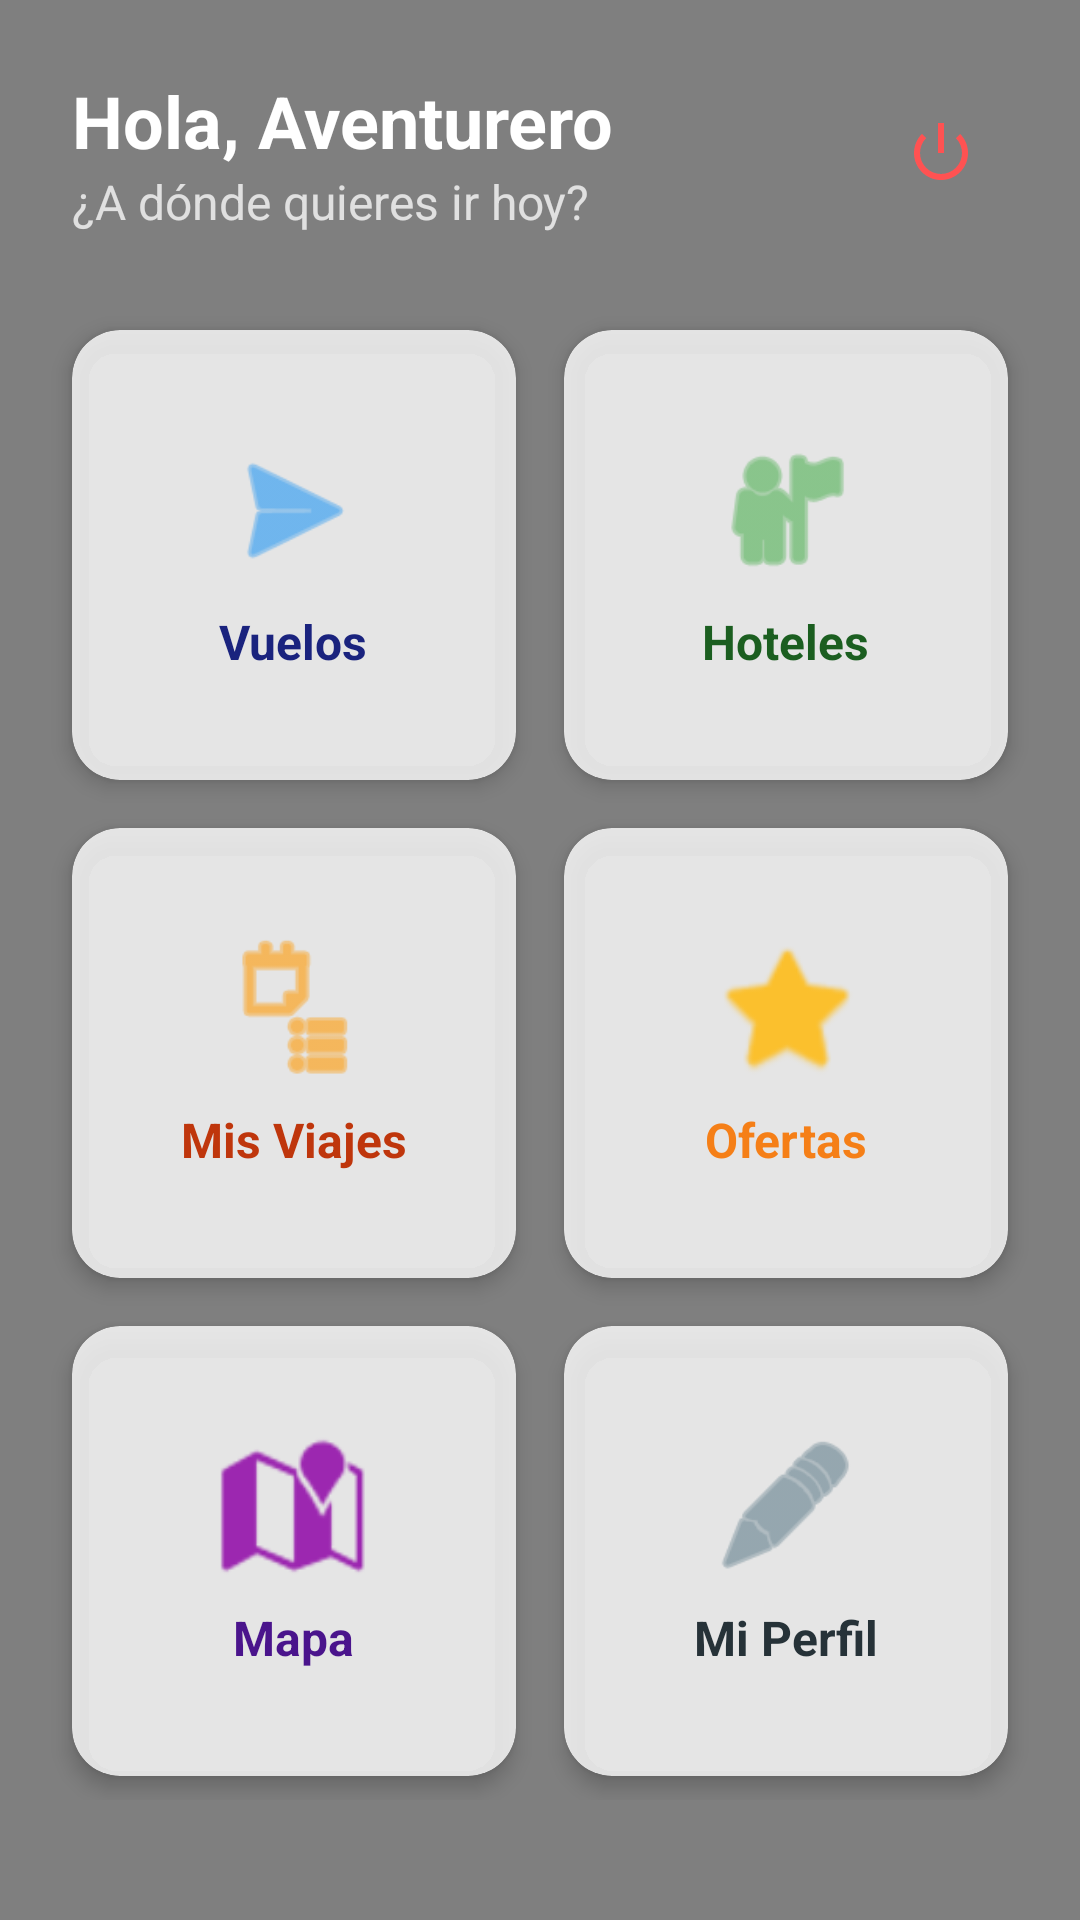

Locate icon controls on the screen. Image size 1080*1920, boxes as (x1, y1, x2, y2).
agenda: (242, 940, 347, 1074)
edit: (722, 1442, 849, 1568)
lock power off: (914, 123, 968, 180)
myplaces: (731, 454, 844, 566)
send: (247, 463, 343, 558)
star on: (725, 949, 850, 1070)
